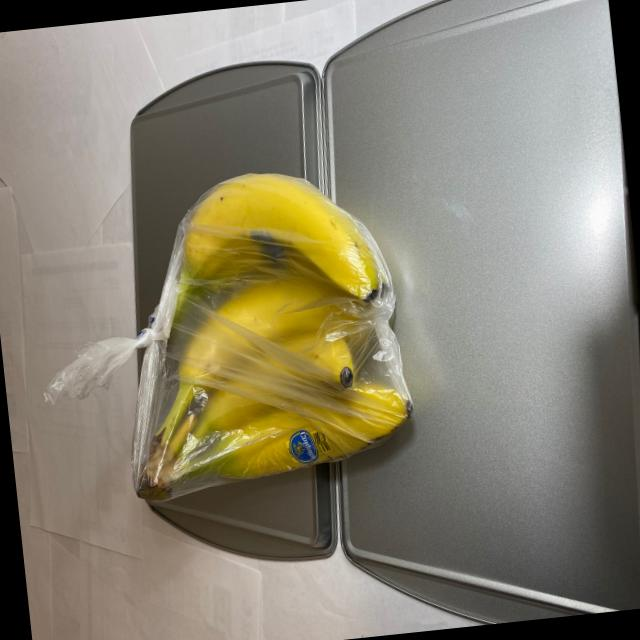banana: (99, 160, 422, 512)
